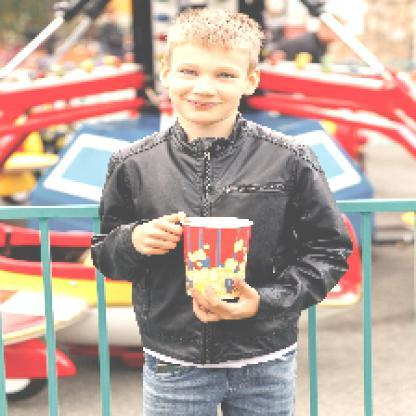child: (92, 7, 356, 416)
